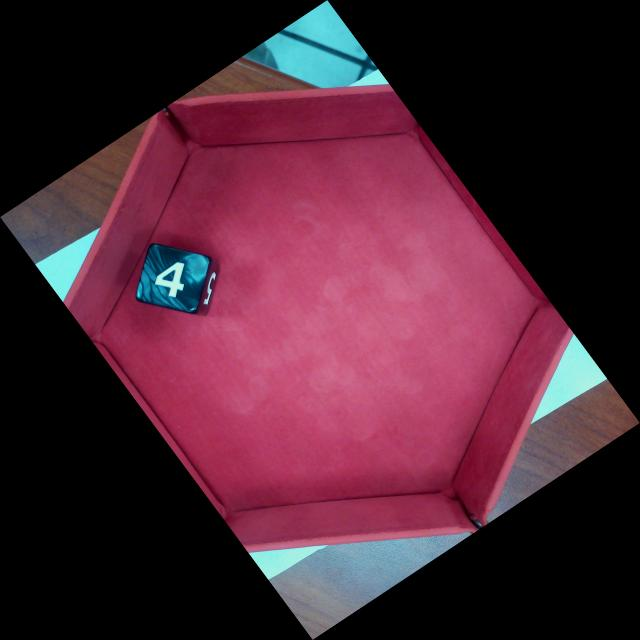dice: (136, 245, 214, 312)
